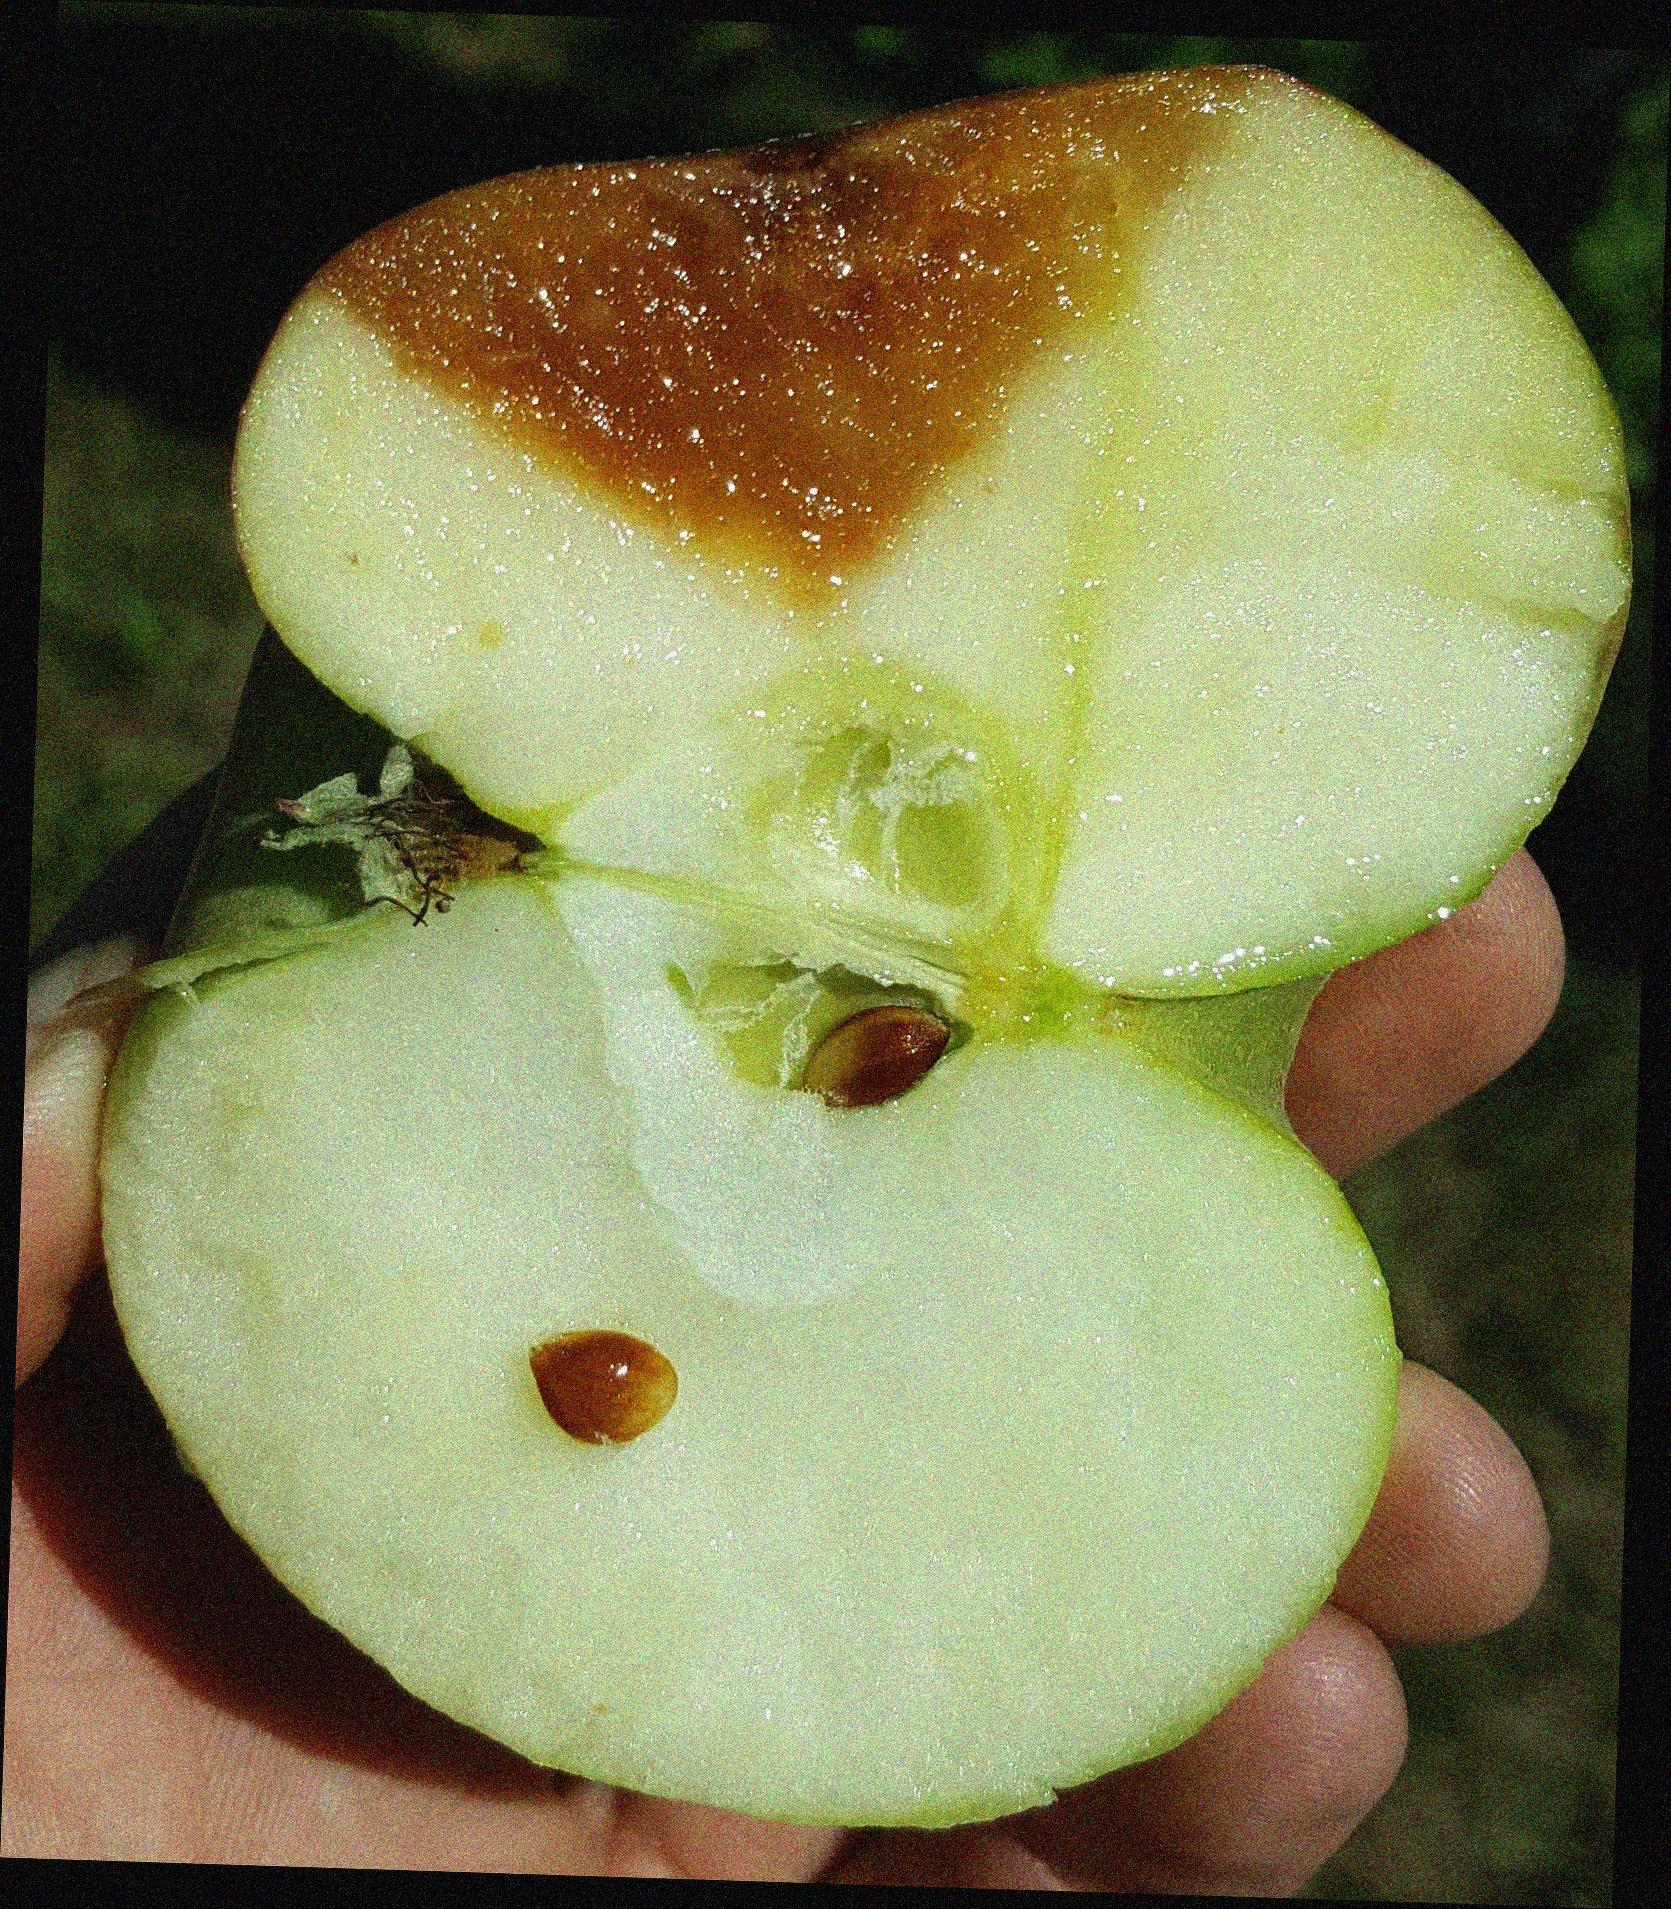rotten apple: (265, 115, 1462, 567)
